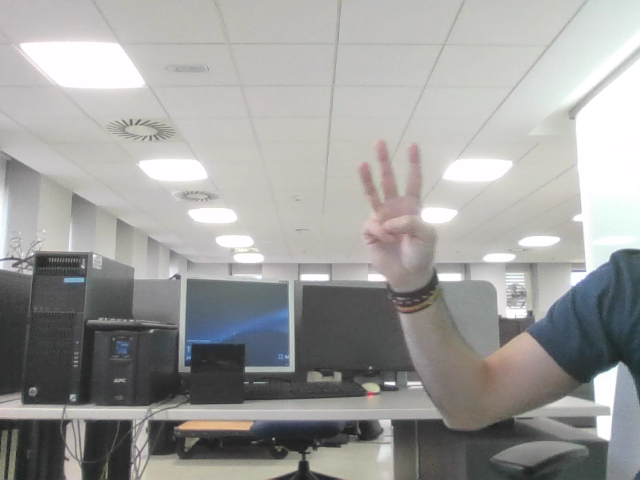3Dedos: (367, 149, 424, 252)
